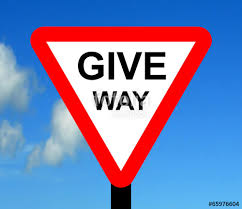giveway: (28, 24, 215, 191)
